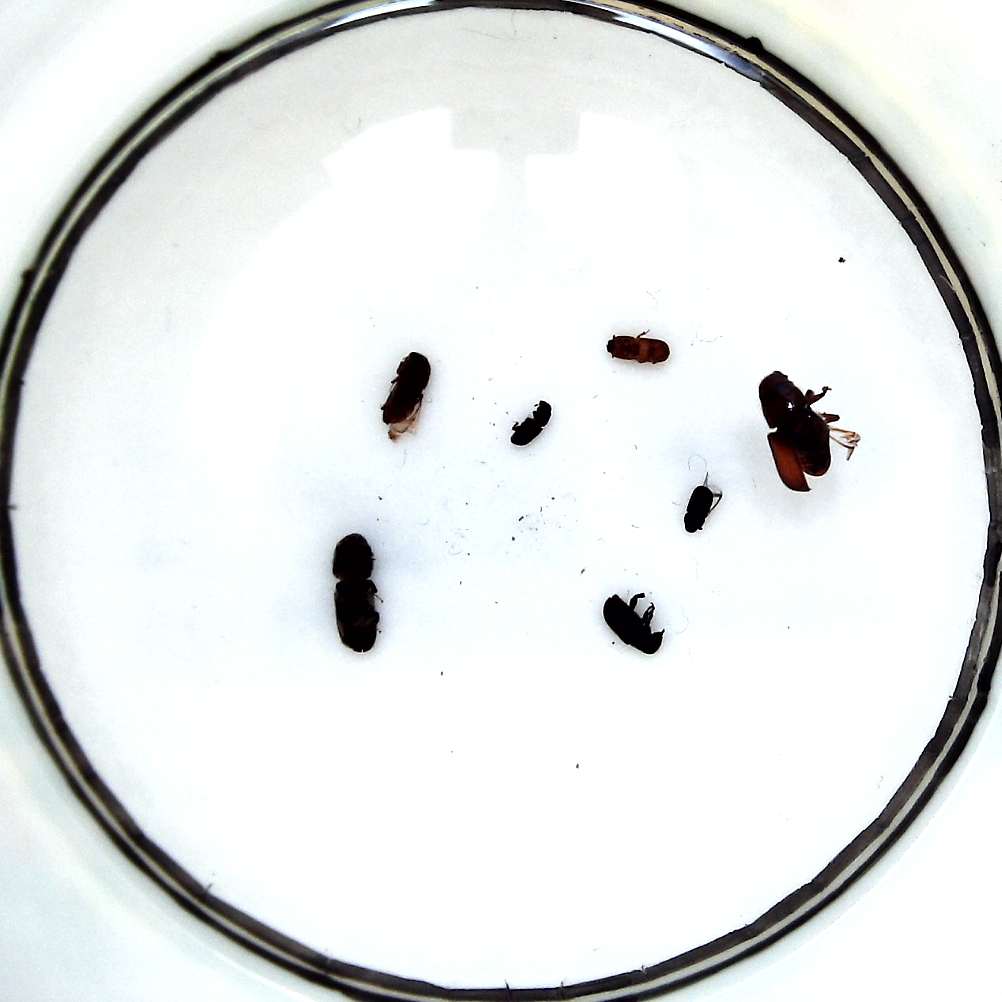Boerner: (332, 532, 383, 655)
Leconte: (759, 370, 844, 492)
Linnaeus: (378, 353, 430, 426)
acuminatus: (602, 332, 671, 365)
armandi: (602, 592, 663, 656)
coleoptera: (509, 398, 551, 447), (683, 485, 717, 537)
